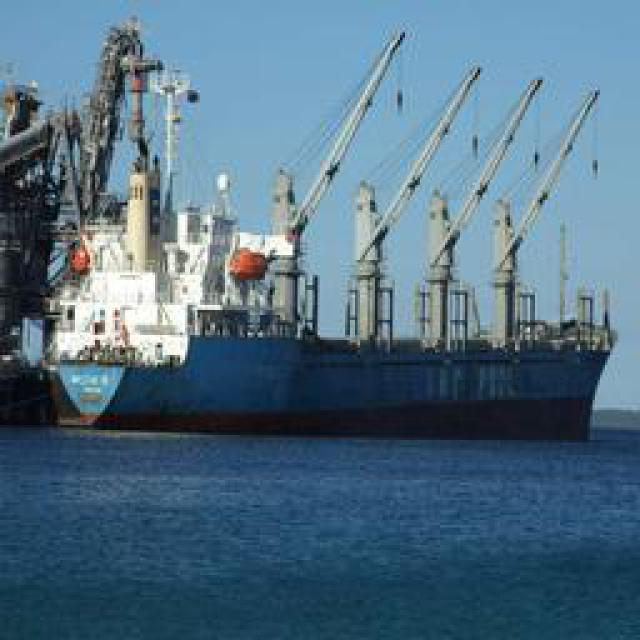Ship: (27, 35, 620, 440)
